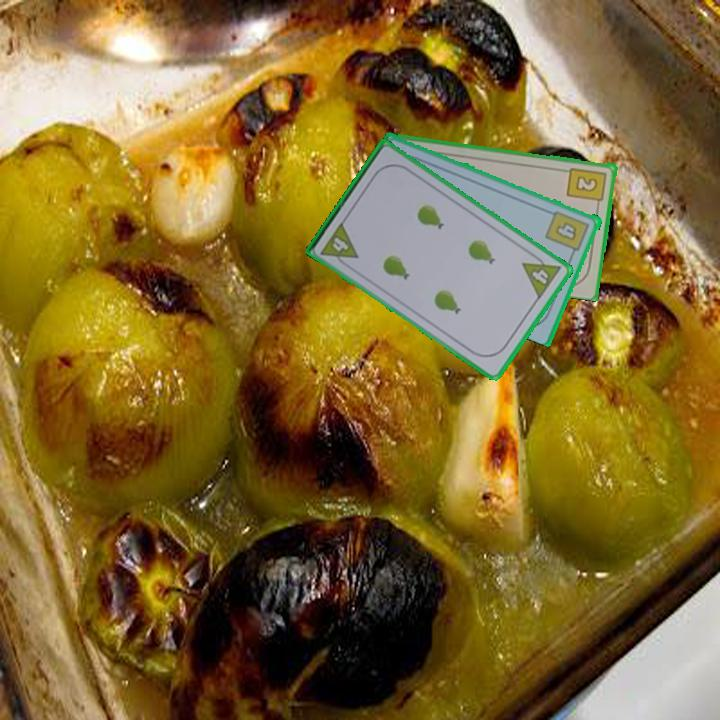2b: (564, 164, 609, 210)
4b: (542, 207, 593, 259)
4p: (519, 248, 564, 302), (317, 218, 361, 271)
